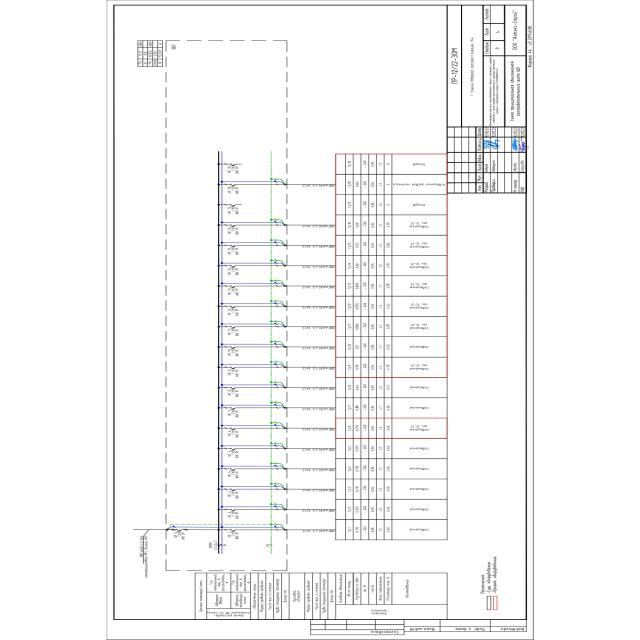-: (231, 348, 240, 356), (231, 268, 240, 276), (231, 369, 240, 377), (177, 532, 186, 540), (231, 187, 240, 195), (231, 308, 240, 316), (231, 288, 239, 296), (231, 471, 239, 479), (231, 512, 239, 520), (231, 328, 239, 336), (231, 532, 239, 540), (231, 430, 239, 438), (231, 410, 239, 418), (231, 491, 239, 499), (231, 390, 239, 398), (231, 247, 239, 255), (231, 207, 239, 214), (231, 451, 239, 458), (231, 167, 239, 174), (231, 228, 239, 235)
QF: (228, 366, 238, 371), (228, 406, 237, 411), (228, 204, 238, 208), (228, 508, 238, 512), (228, 488, 238, 492), (227, 468, 237, 472), (227, 447, 237, 451), (228, 224, 238, 228), (228, 386, 238, 390), (228, 325, 238, 329), (228, 305, 238, 309), (228, 285, 238, 289), (228, 244, 238, 248), (229, 184, 238, 188), (229, 162, 238, 166), (175, 528, 184, 532), (228, 528, 237, 532), (228, 427, 237, 431), (228, 346, 237, 350), (228, 264, 237, 268)
